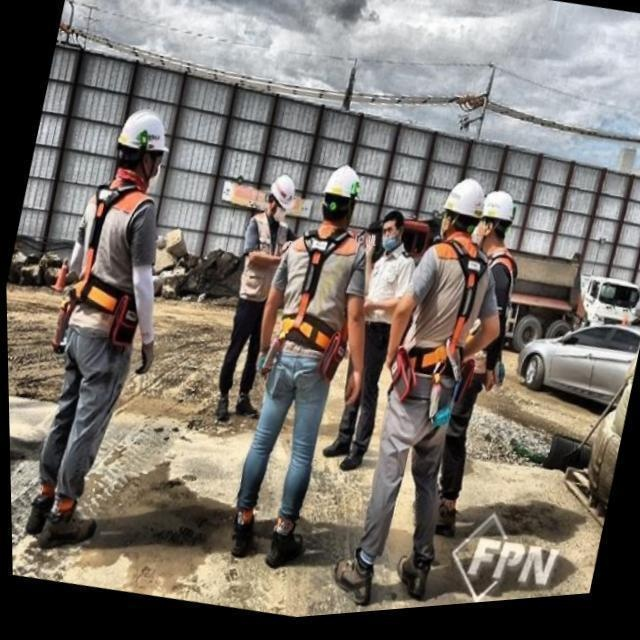Arnes_seguridad: (67, 186, 153, 332), (409, 232, 486, 376), (277, 227, 352, 365)
